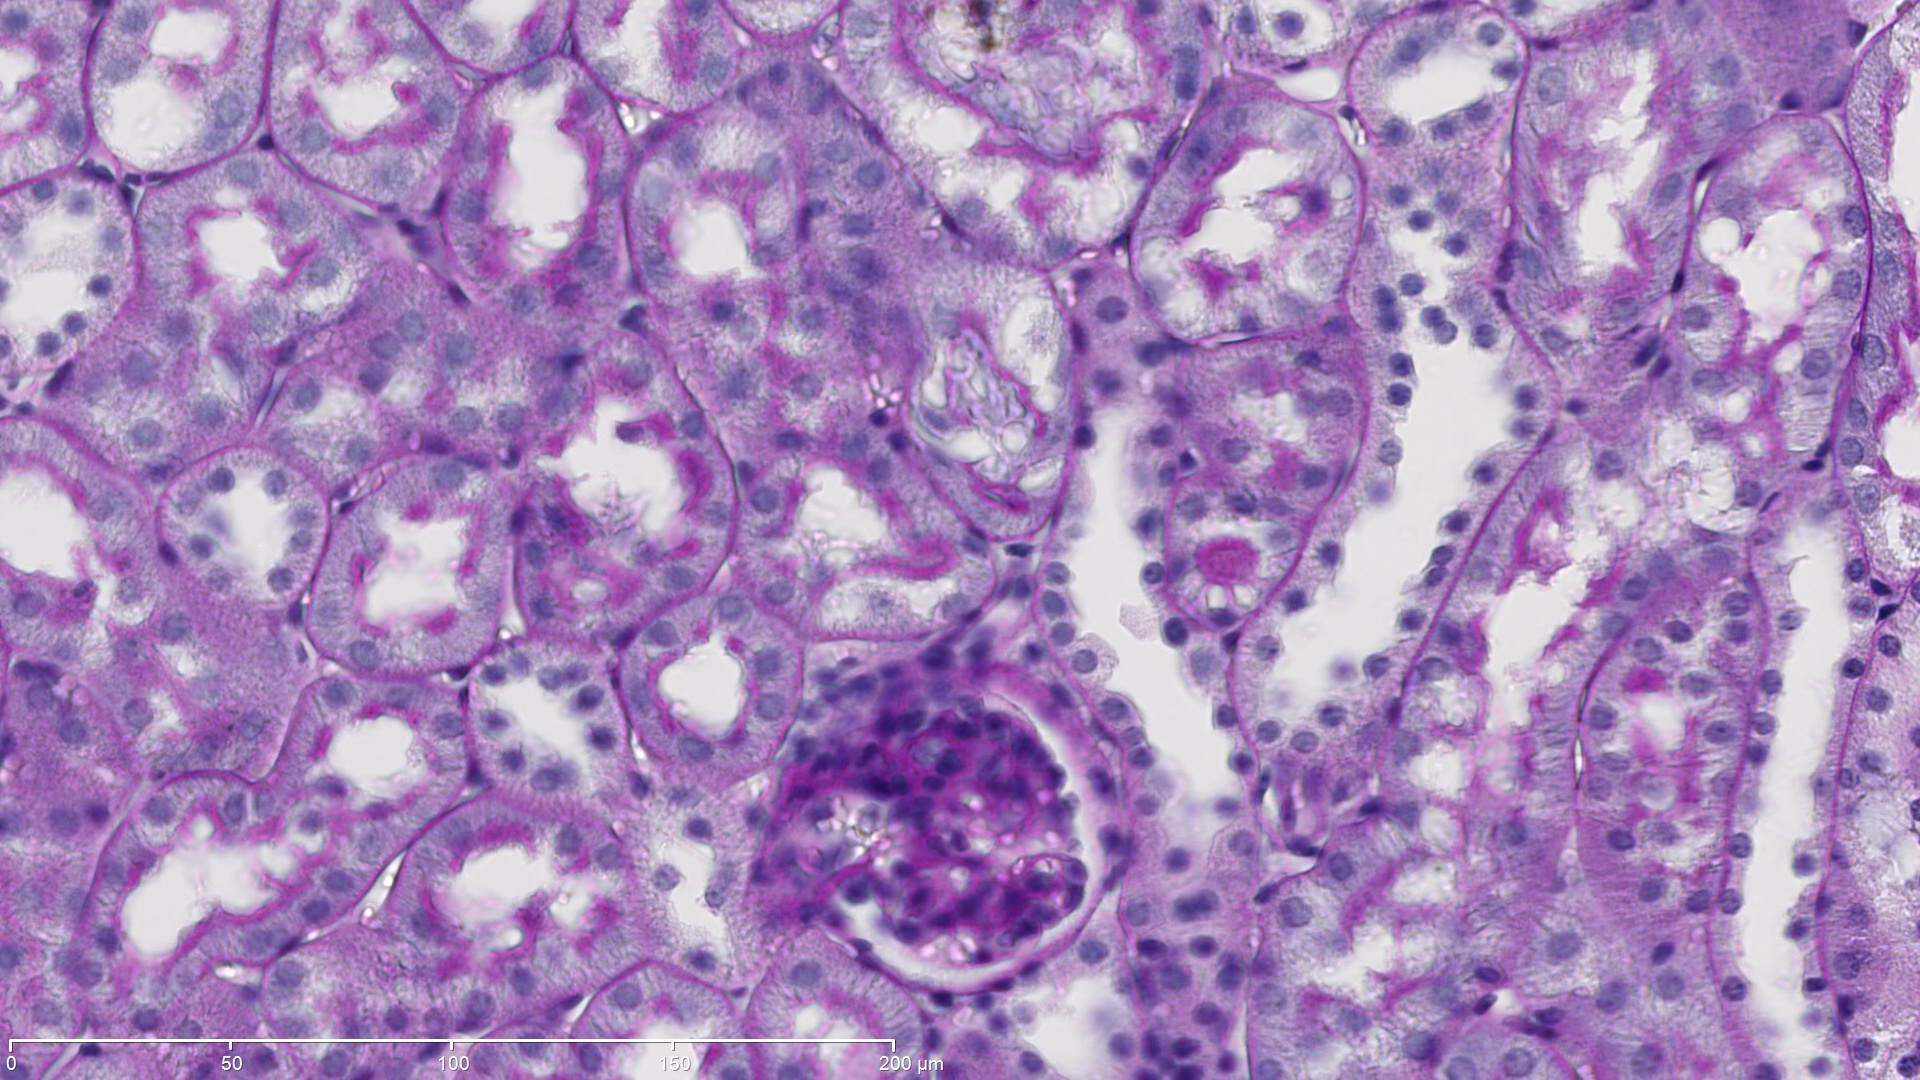Glomeruli: (752, 650, 1117, 1007)
